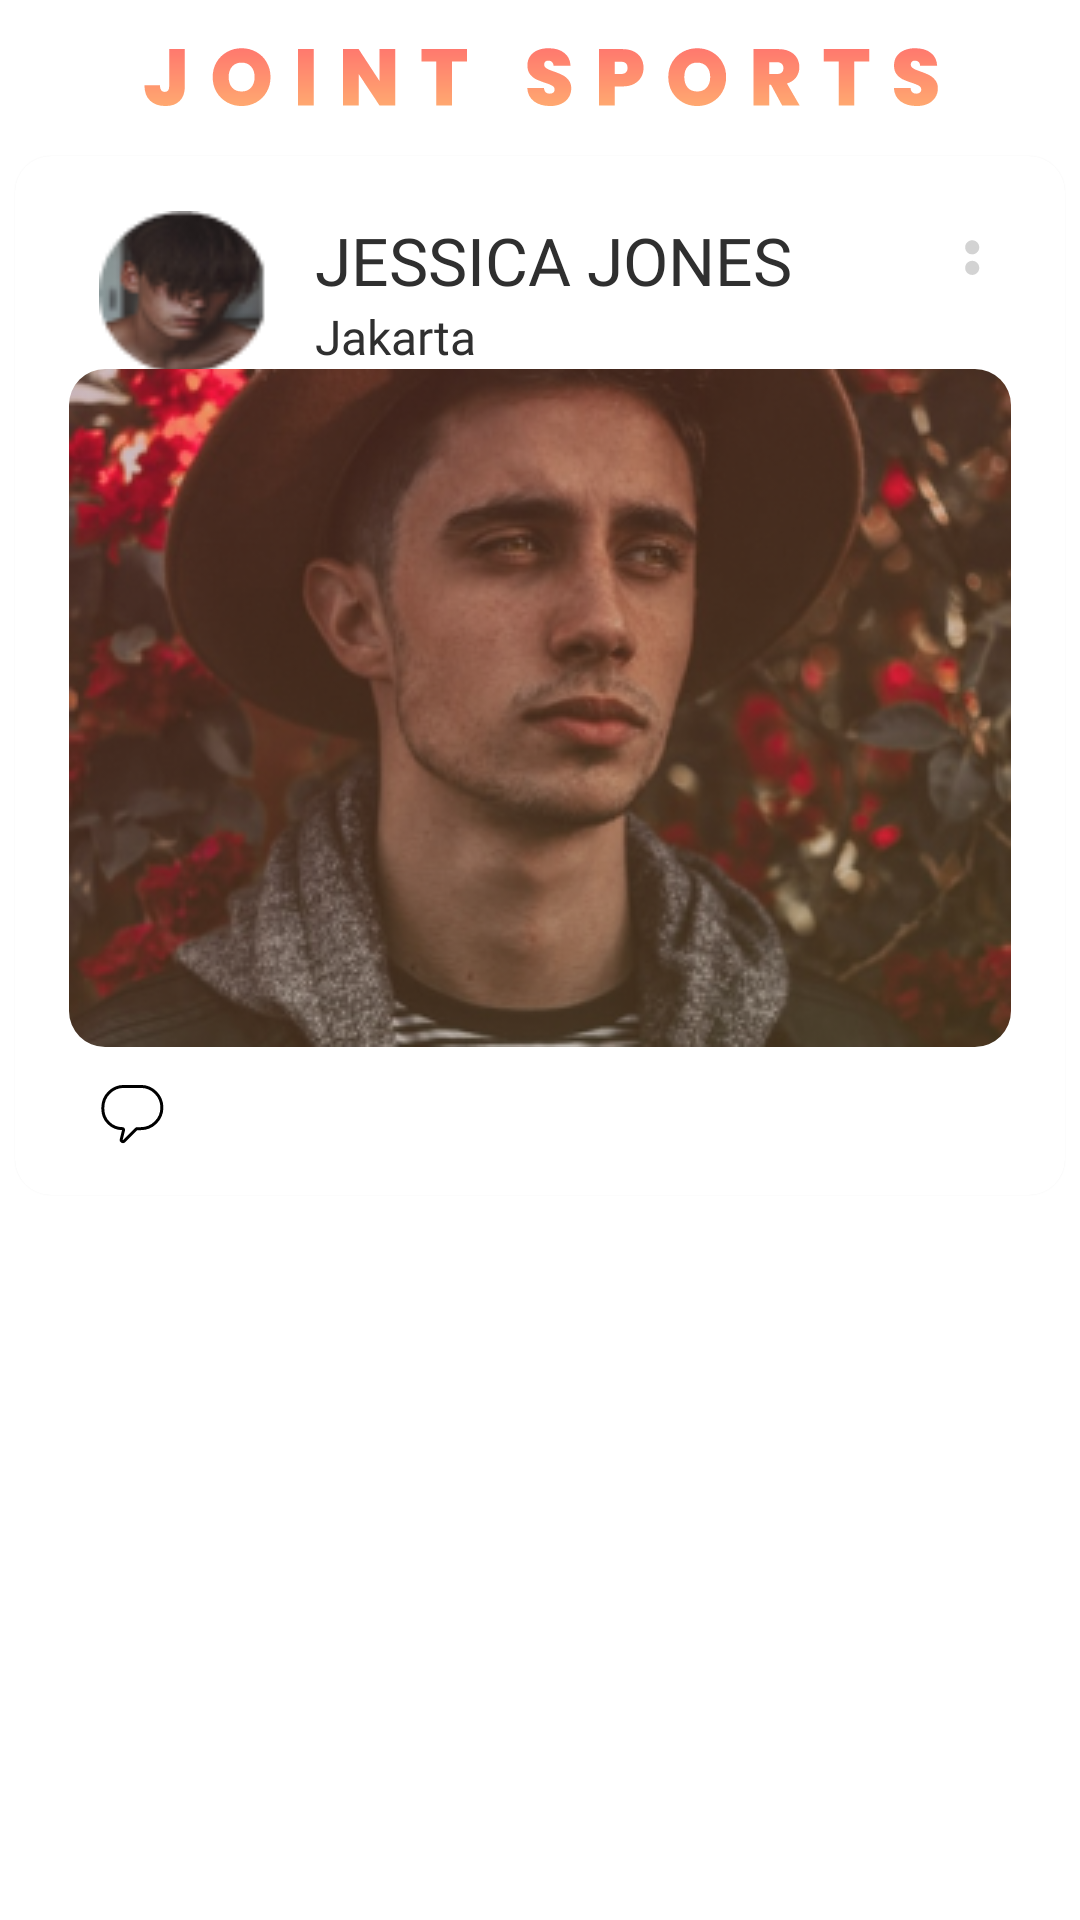

Named icons in this screenshot (1080 × 1920) and their centers, (x,y):
Image of Photo Profile: (183,294)
